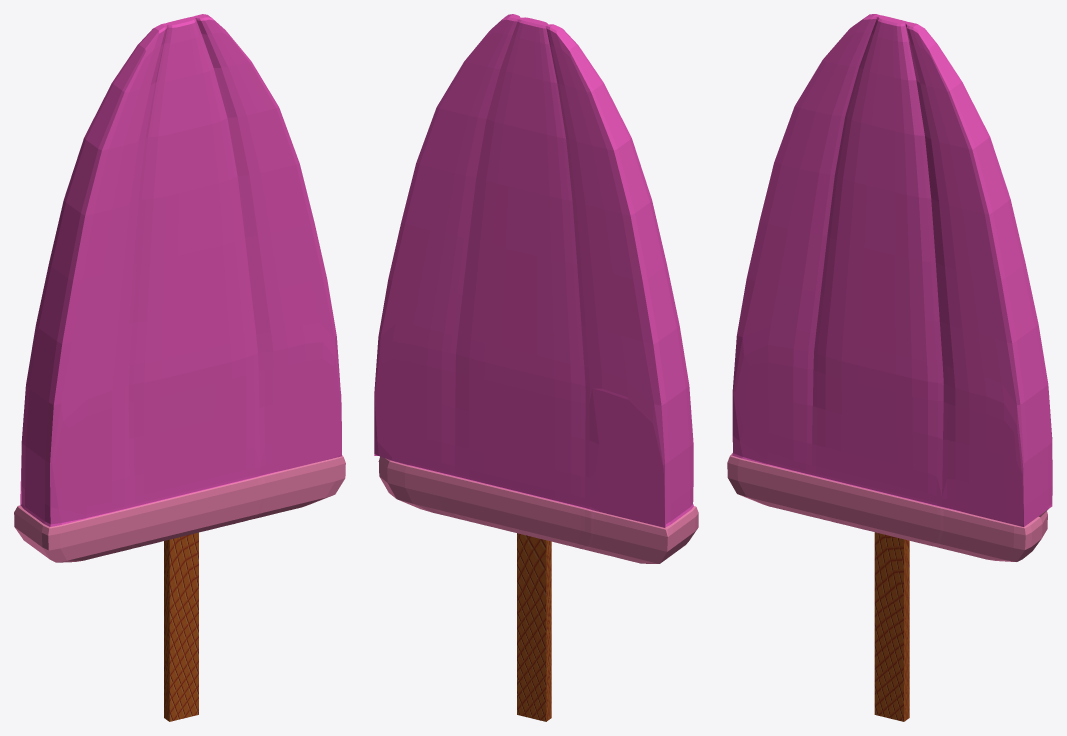
Rendered from Albero2.fbx.
The picture shows the model from 3 angles, left to right: view 1: azimuth 30°, elevation 25°; view 2: azimuth 150°, elevation 25°; view 3: azimuth 330°, elevation 25°; orthographic projection.
Parts seen in each view (by area): view 1: Ghiacciolo, Cube; view 2: Ghiacciolo, Cube; view 3: Ghiacciolo, Cube.
Boxes of the visible parts, x1,y1,x2,y2 form: Ghiacciolo: (14, 14, 345, 562); Cube: (164, 532, 198, 721); Ghiacciolo: (374, 14, 698, 563); Cube: (517, 533, 551, 721); Ghiacciolo: (727, 14, 1052, 561); Cube: (874, 532, 909, 721).
Bounding box in the file's own units: 597 × 1317 × 115.
